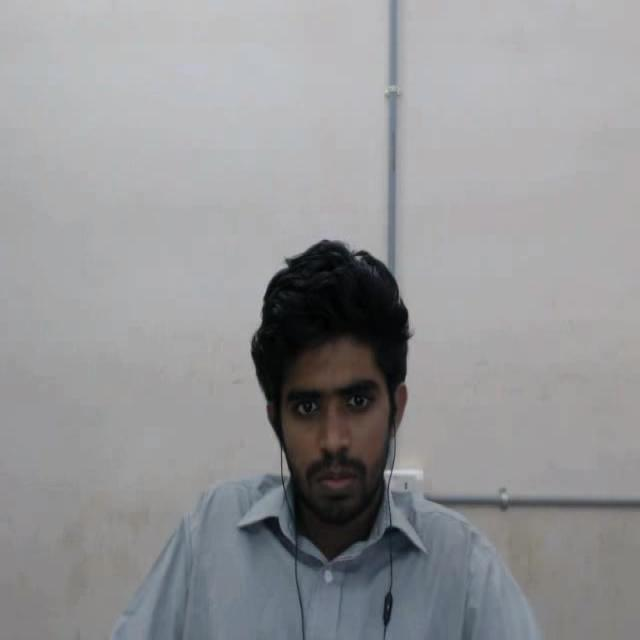Engaged: (209, 127, 422, 581)
